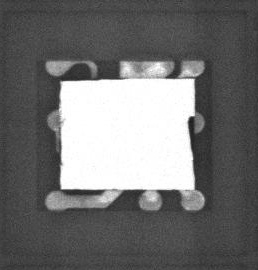DIE_BROKEN: (58, 82, 64, 189), (185, 114, 195, 154), (59, 78, 140, 82)
